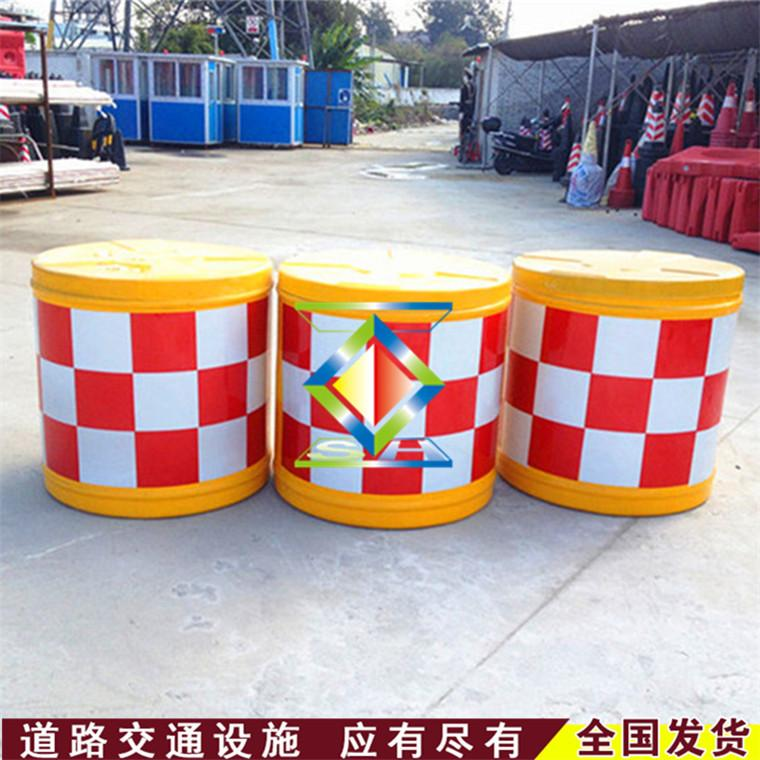sign: (30, 229, 272, 520), (507, 232, 744, 518)
